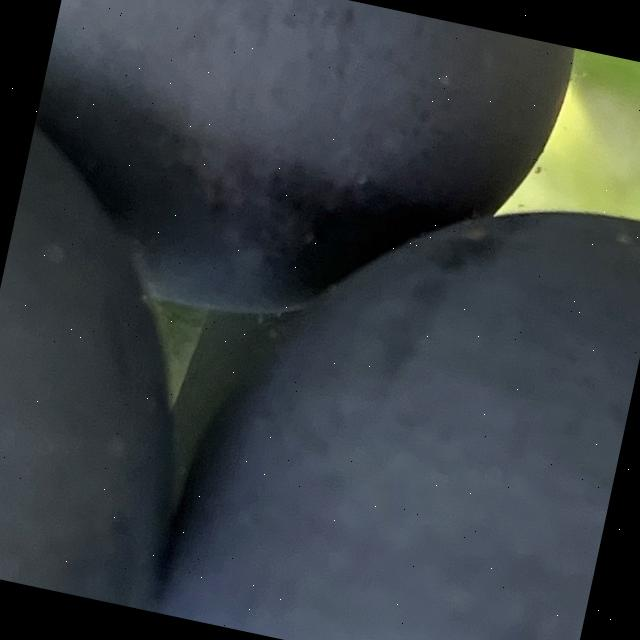Blueberries: (139, 133, 640, 640), (4, 0, 585, 377), (0, 55, 257, 611)
